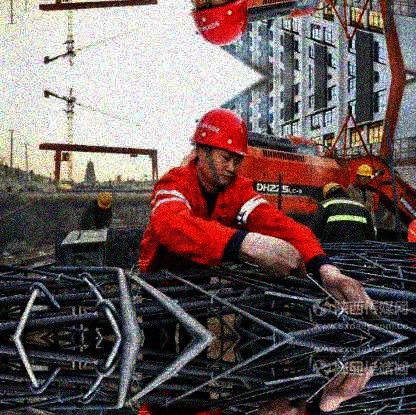helmet: (189, 106, 252, 186), (356, 163, 374, 186), (323, 181, 345, 199), (97, 191, 113, 210)
